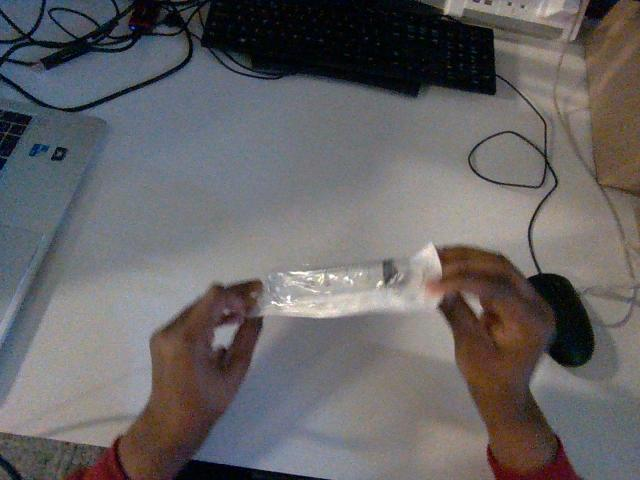syringe: (259, 244, 441, 317)
